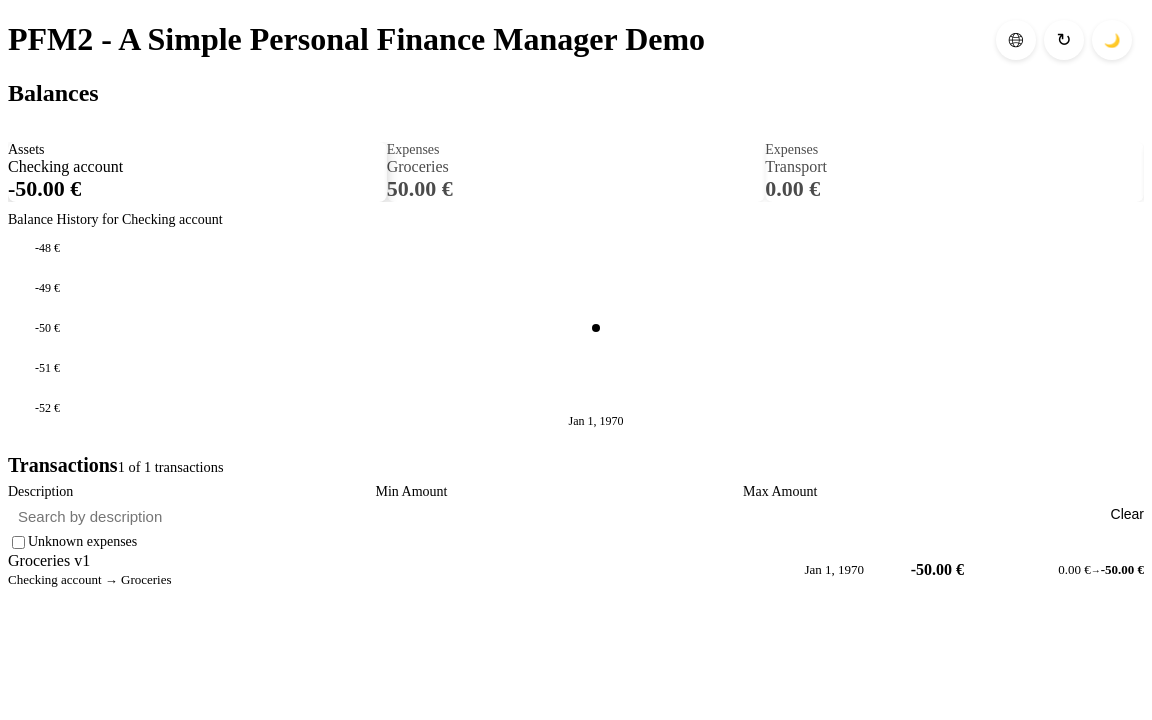
AppDataLoader › editing a transaction › edits an existing transaction and updates balances
// Action: Click the transaction to open the modal
Click the button with test id "transaction-item--1" at (49, 560), box [8, 552, 1144, 588]
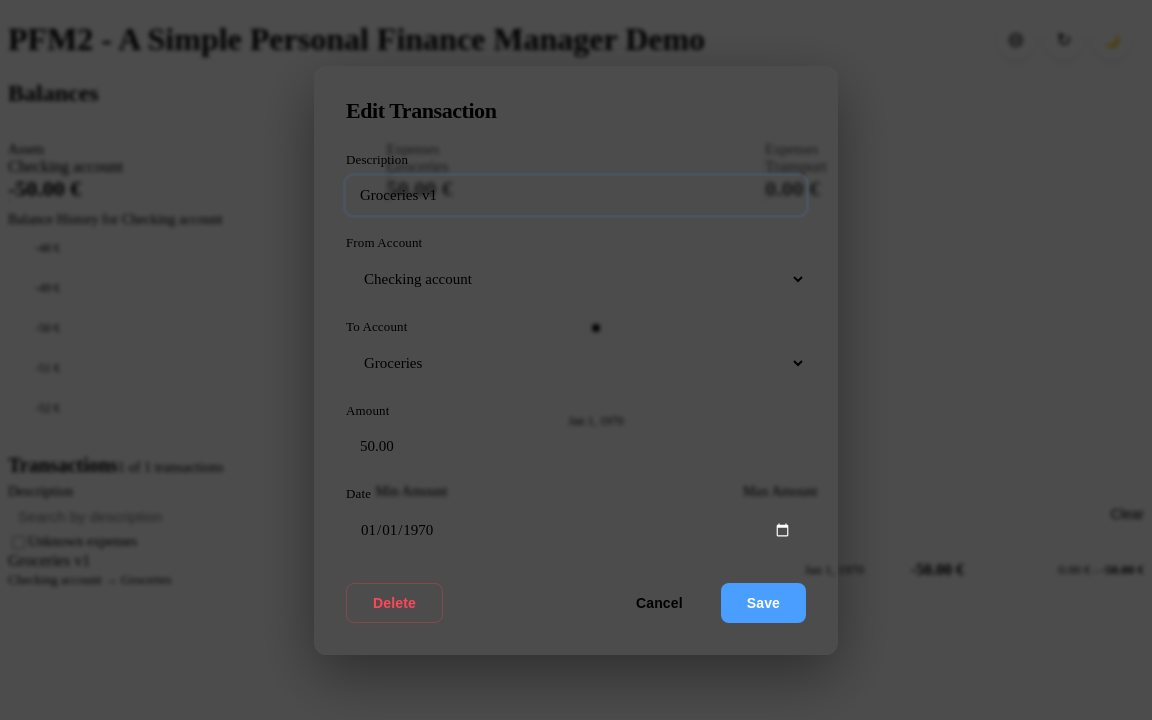
expect the field with test id "transaction-description" holds "Groceries v1": met
expect the number field with test id "transaction-amount" holds "50.00": met, box [346, 426, 806, 466]
// Action: Edit the form
Replace the text in the field with test id "transaction-description" with "Groceries v2" at (576, 195), box [346, 176, 806, 214]
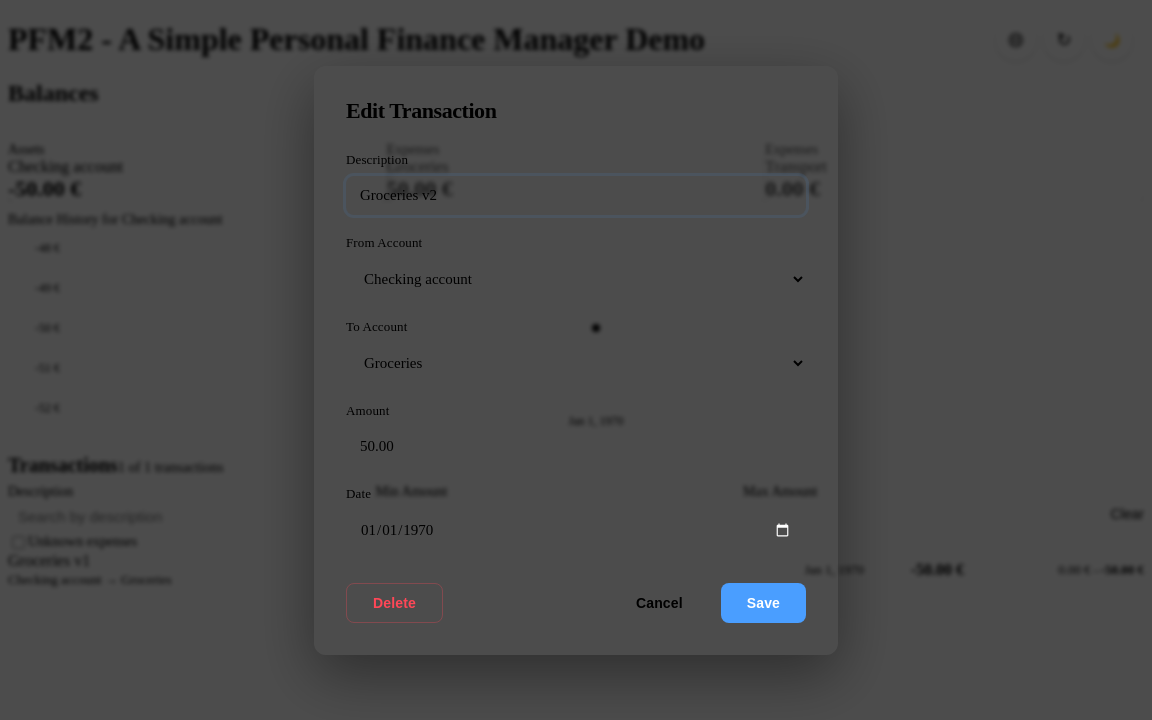
Replace the text in the number field with test id "transaction-amount" with "75.25" at (576, 446), box [346, 426, 806, 466]
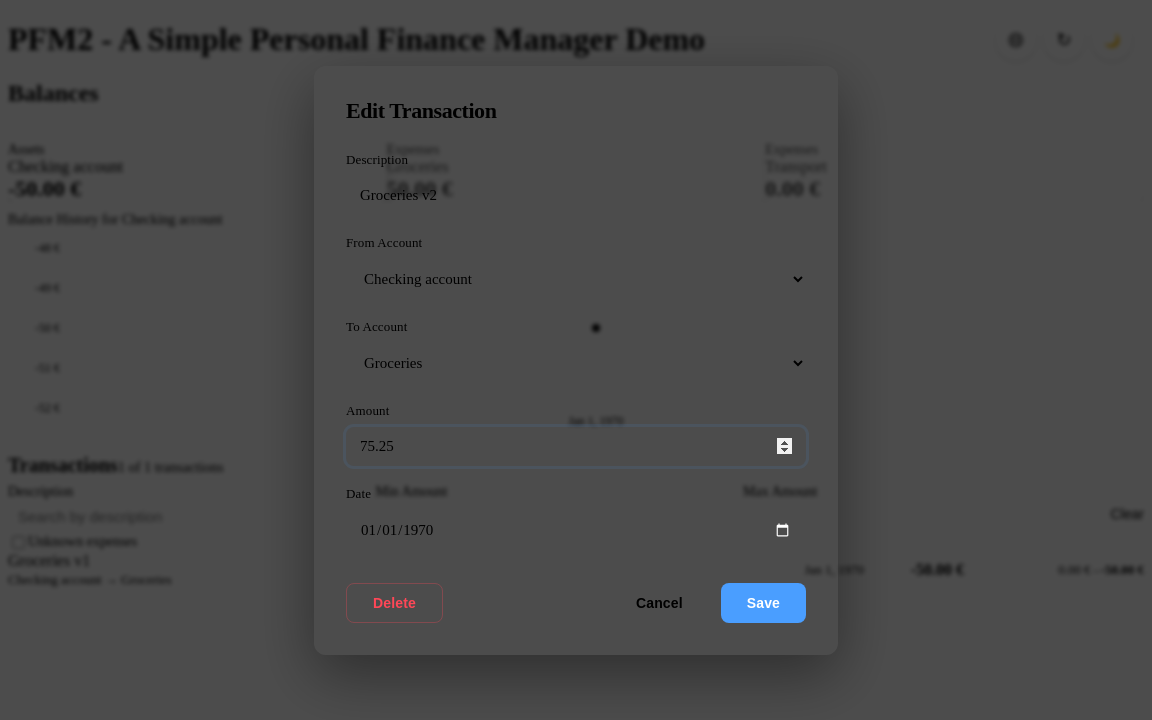
// Action: Save the changes
Click the button with test id "transaction-save" at (763, 602), box [721, 582, 806, 622]
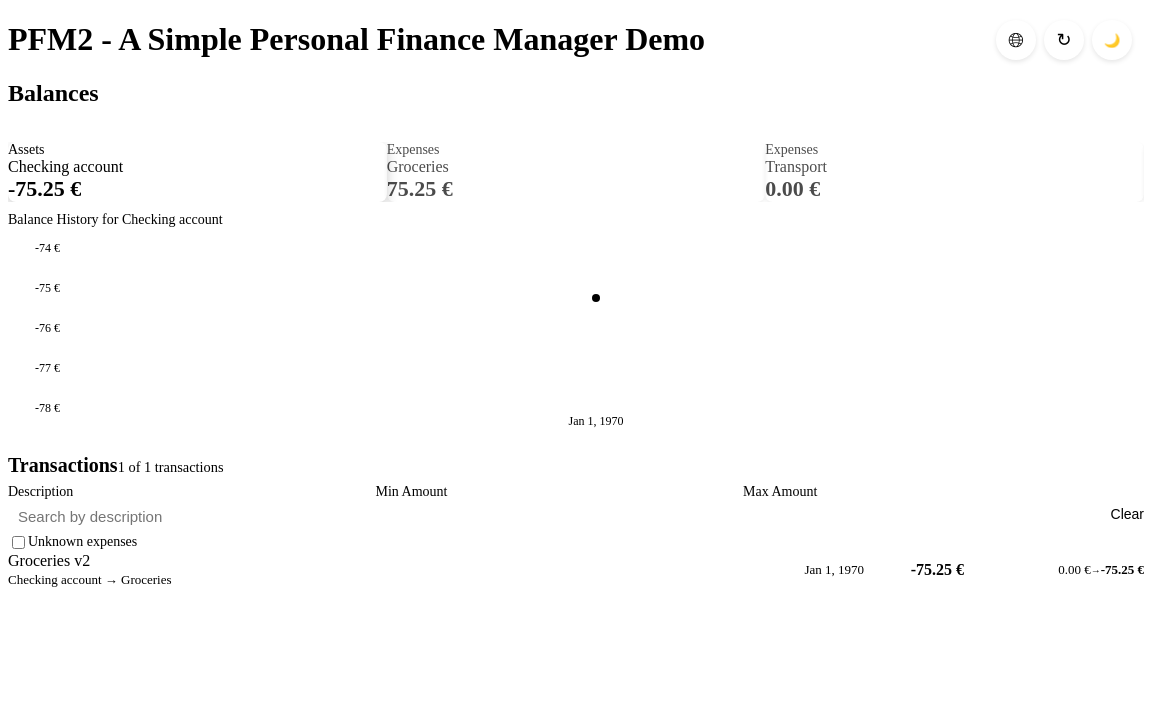
expect the dialog is gone: met
